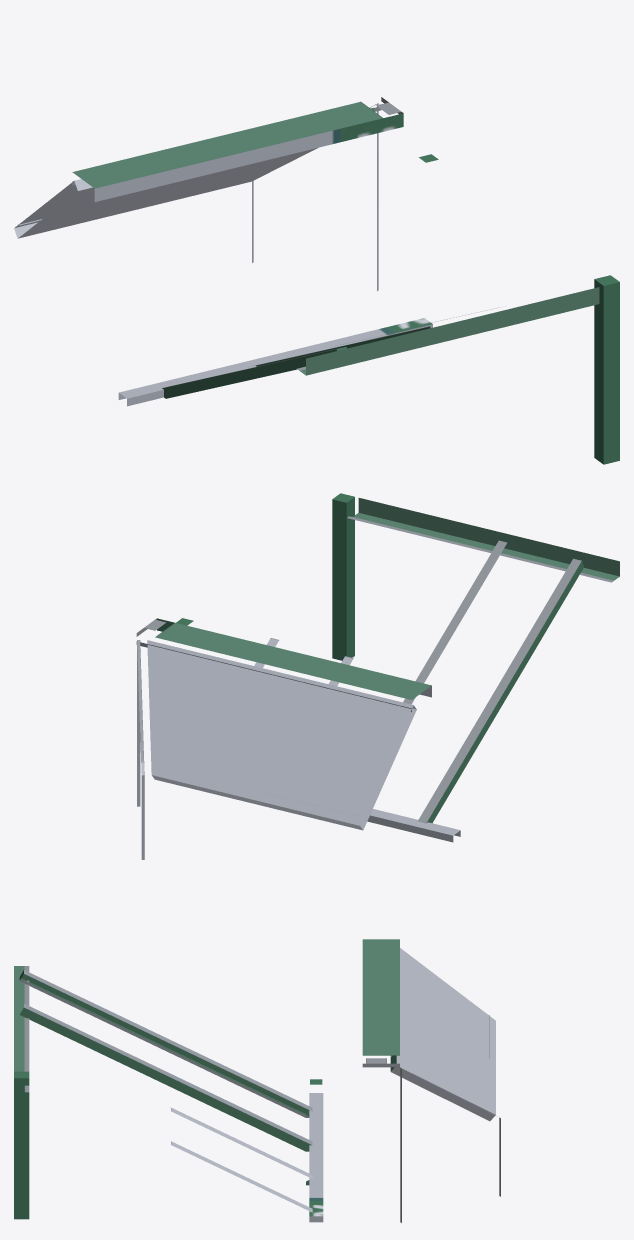
File: section-1.obj
3 views of the same model, one above another, from view 1: azimuth 30°, elevation 25°; view 2: azimuth 150°, elevation 25°; view 3: azimuth 270°, elevation 25° (orthographic). The views are drawn at different scales.
Size of the model in its own units: 0.965 by 0.57 by 1.96.
